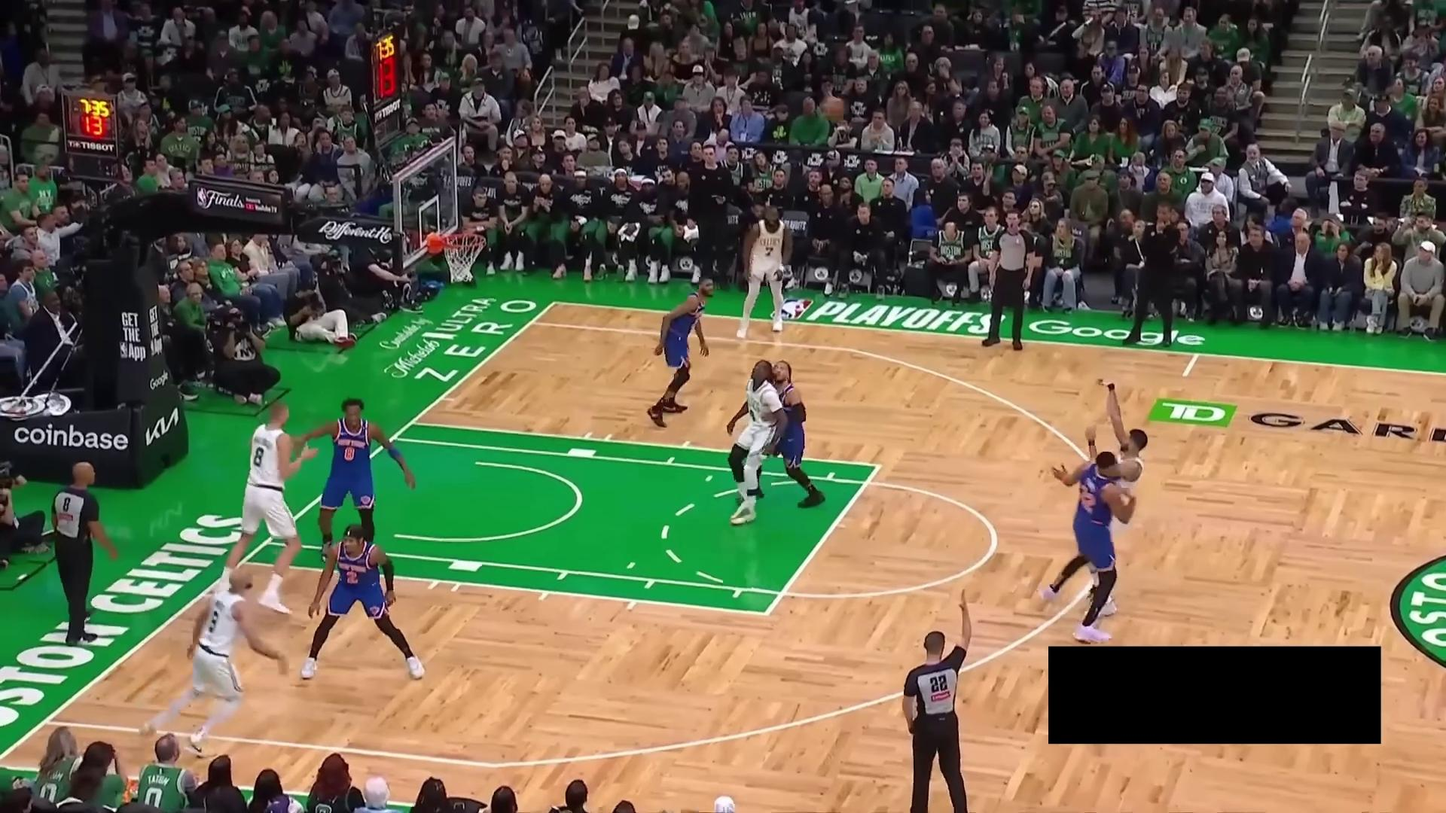ball: (822, 95, 847, 120)
number: (208, 610, 219, 632), (253, 446, 264, 467), (343, 446, 356, 462), (346, 570, 358, 584), (764, 245, 774, 258)
player: (137, 565, 291, 759), (210, 399, 320, 617), (1040, 393, 1139, 632), (288, 397, 417, 563), (300, 522, 426, 682), (1075, 379, 1149, 631), (739, 358, 827, 509), (646, 275, 713, 428), (725, 358, 786, 526), (735, 204, 794, 340)
referee: (901, 586, 975, 813), (50, 460, 118, 645), (981, 208, 1038, 352)
rim: (441, 233, 487, 249)
